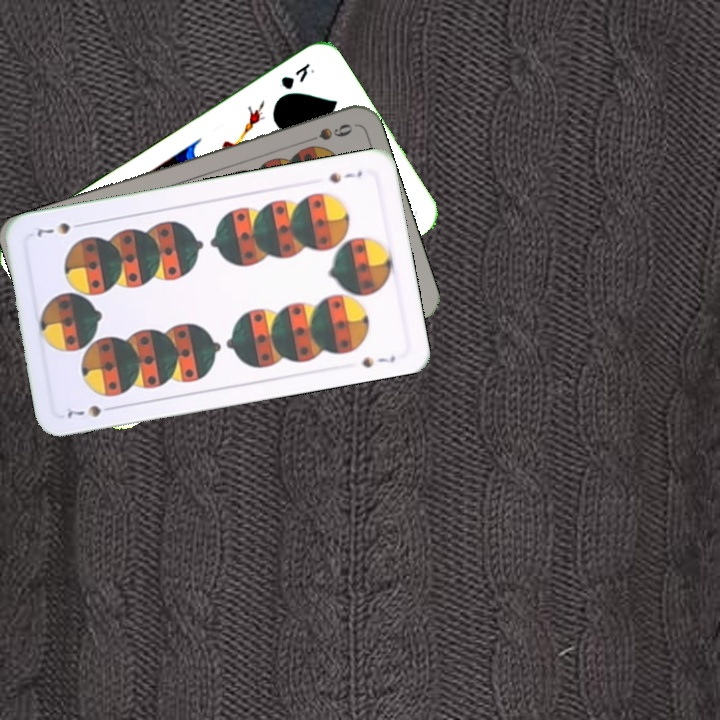GK: (276, 58, 317, 93)
S7: (60, 401, 119, 421), (325, 166, 365, 186)
S9: (298, 119, 356, 147)
